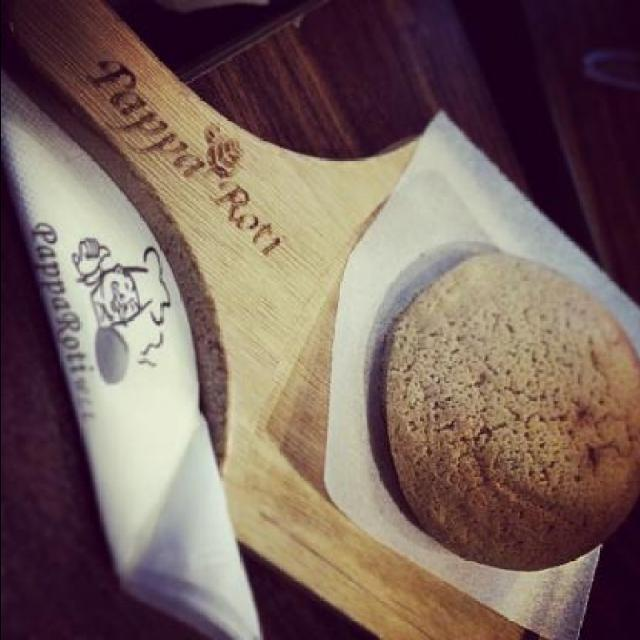Cookie: (377, 247, 635, 570)
